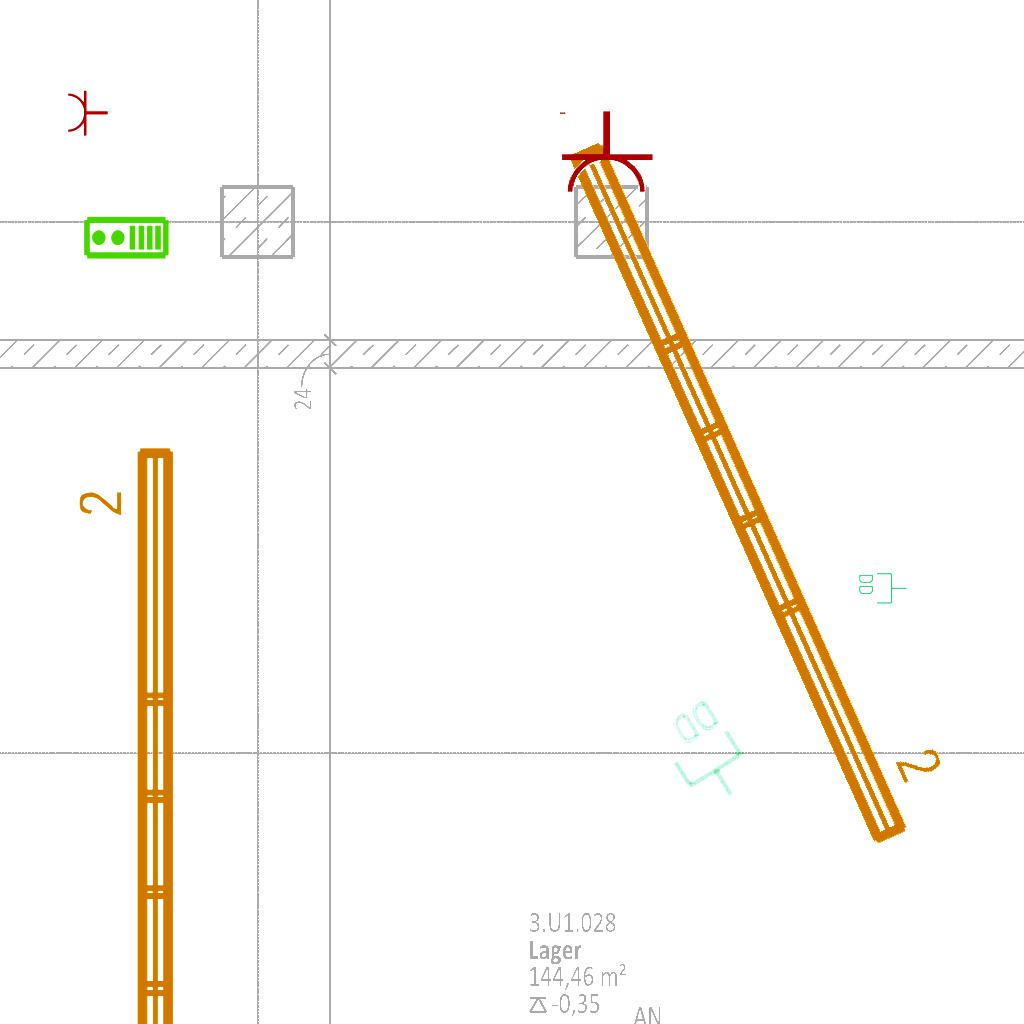Ambulanz_Pendelleuchte_LED: (552, 105, 970, 859), (74, 439, 186, 1024)
Datenanschluss_zweifach: (649, 692, 764, 817), (857, 571, 908, 605)
Gegensprechanlage_mit_Video: (82, 215, 170, 262)
Schukosteckdose_einfach: (555, 109, 655, 196), (66, 87, 109, 137)
